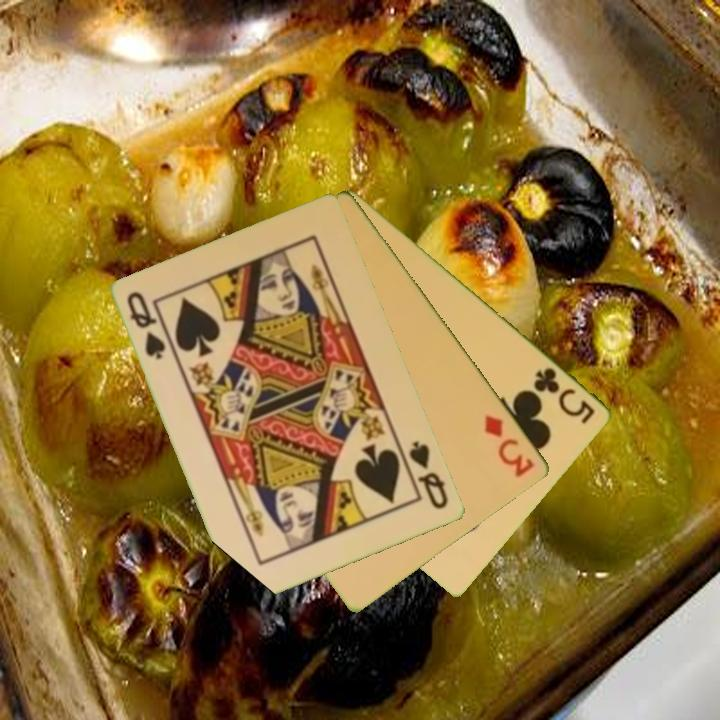3d: (481, 411, 538, 481)
5c: (530, 364, 599, 427)
Qs: (406, 437, 452, 513), (123, 288, 169, 363)
